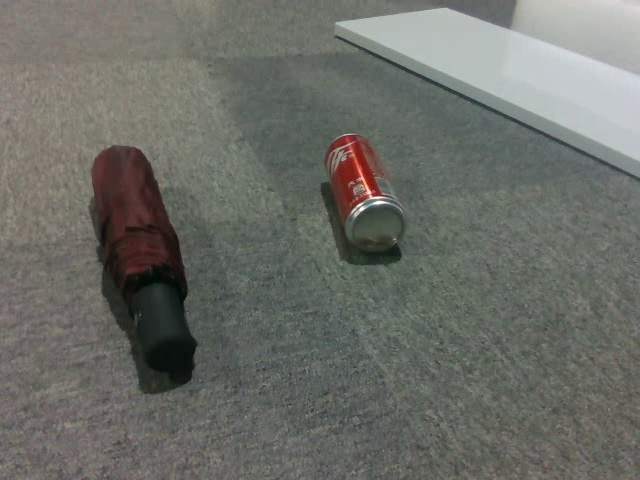CocaCola_Canned_Slender: (324, 134, 404, 252)
Umbrella_Fold_Brown: (92, 146, 191, 369)
